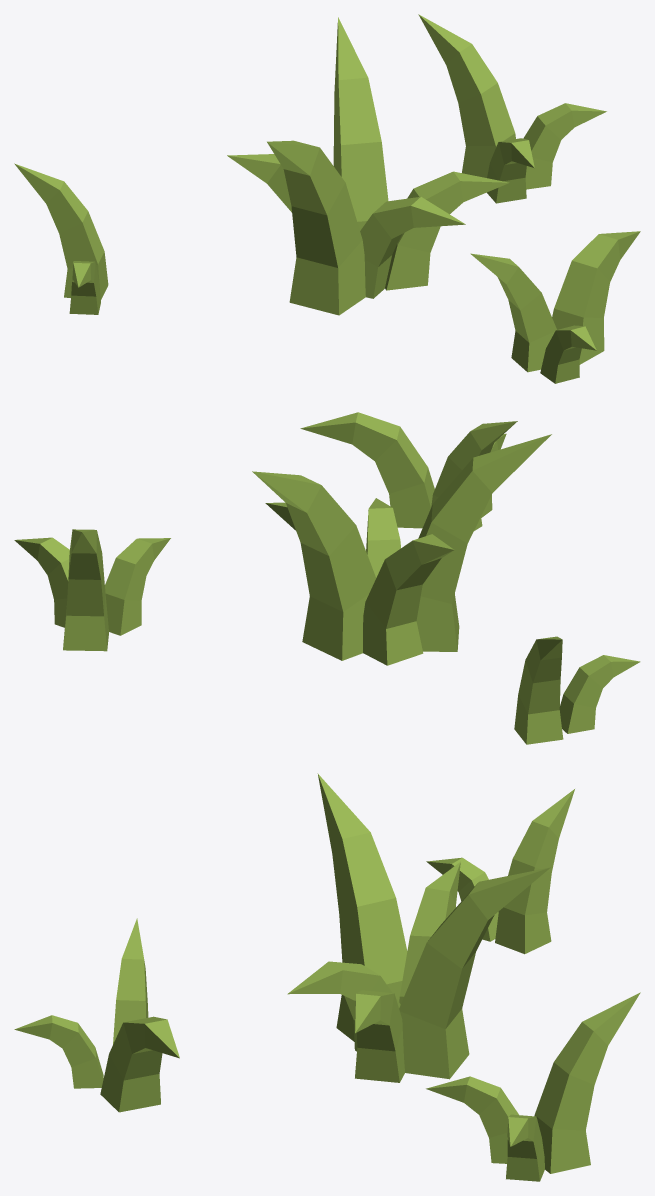
Rendered from Grass_Blue.fbx.
The picture shows the model from 3 angles, top to bottom: view 1: azimuth 30°, elevation 25°; view 2: azimuth 150°, elevation 25°; view 3: azimuth 270°, elevation 25°; orthographic projection. The views are drawn at different scales.
Visible parts, largest first — view 1: Grass; view 2: Grass; view 3: Grass.
Part boxes in pixels (left/top/right/bottom): Grass: left=14, top=14, right=640, bottom=383; Grass: left=14, top=412, right=640, bottom=744; Grass: left=14, top=773, right=640, bottom=1181.
Bounding box in the file's own units: 0.5933 × 0.1998 × 0.5337.
